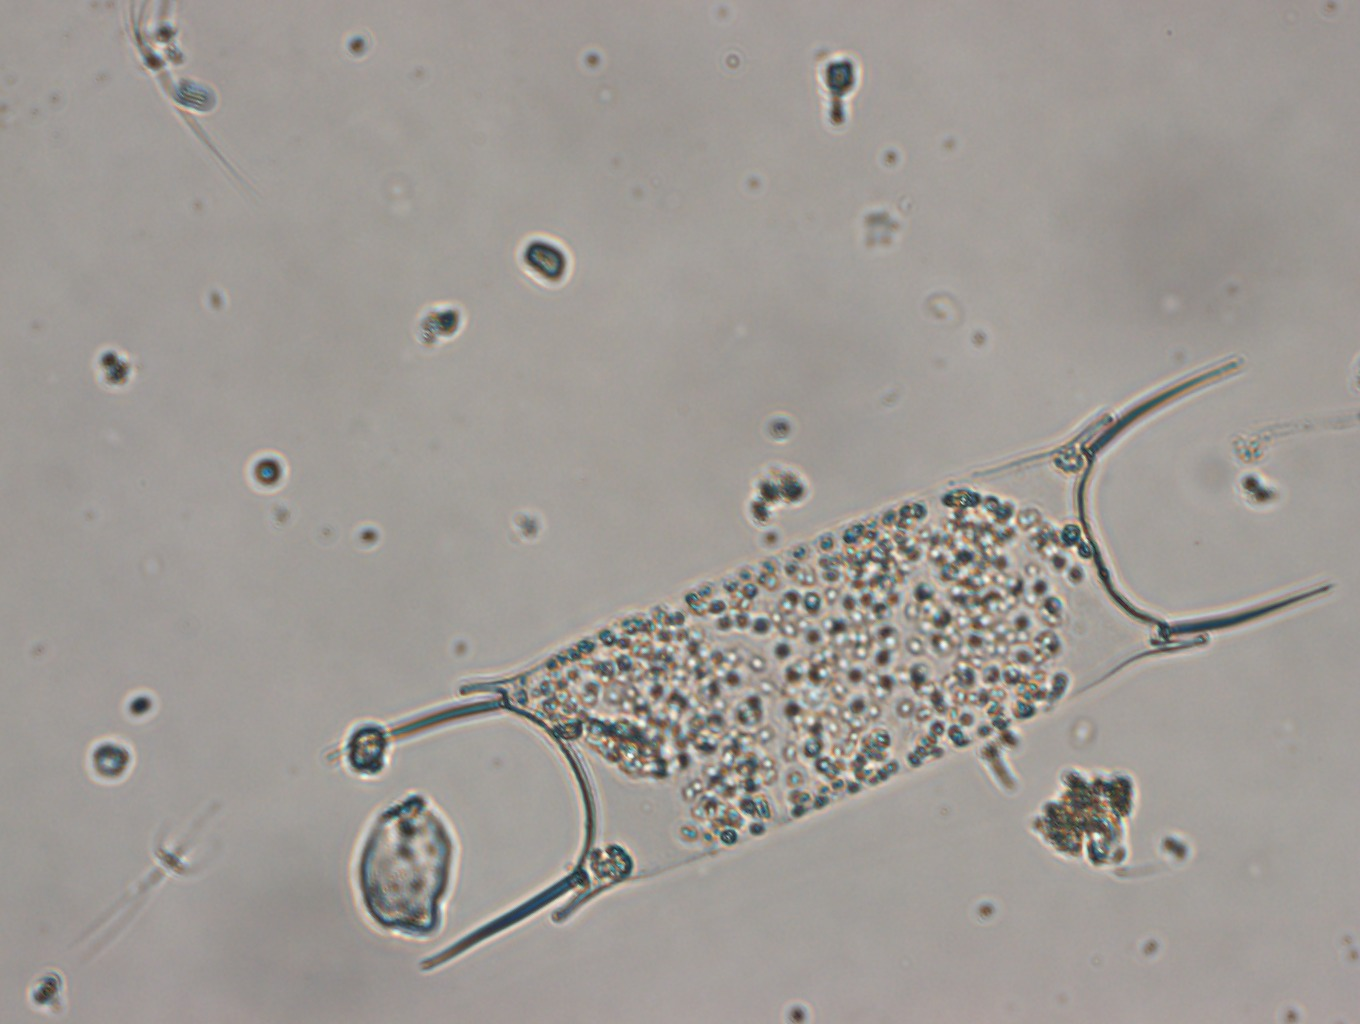biddulphia: (374, 362, 1338, 970)
